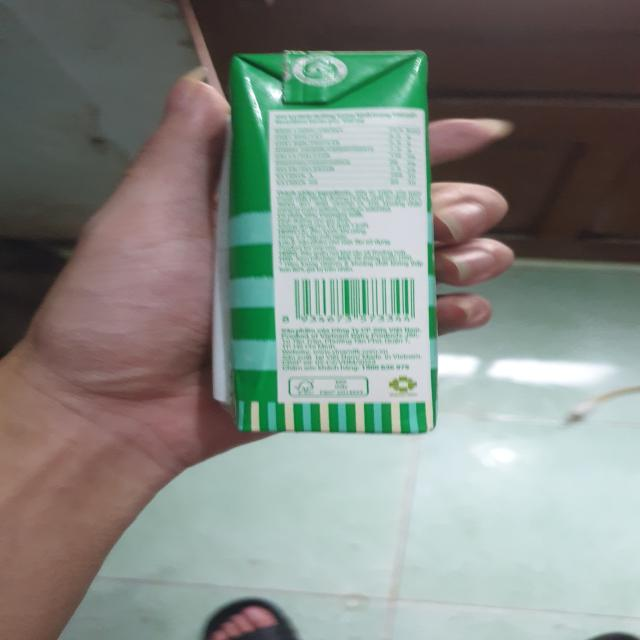Vina: (213, 46, 444, 441)
